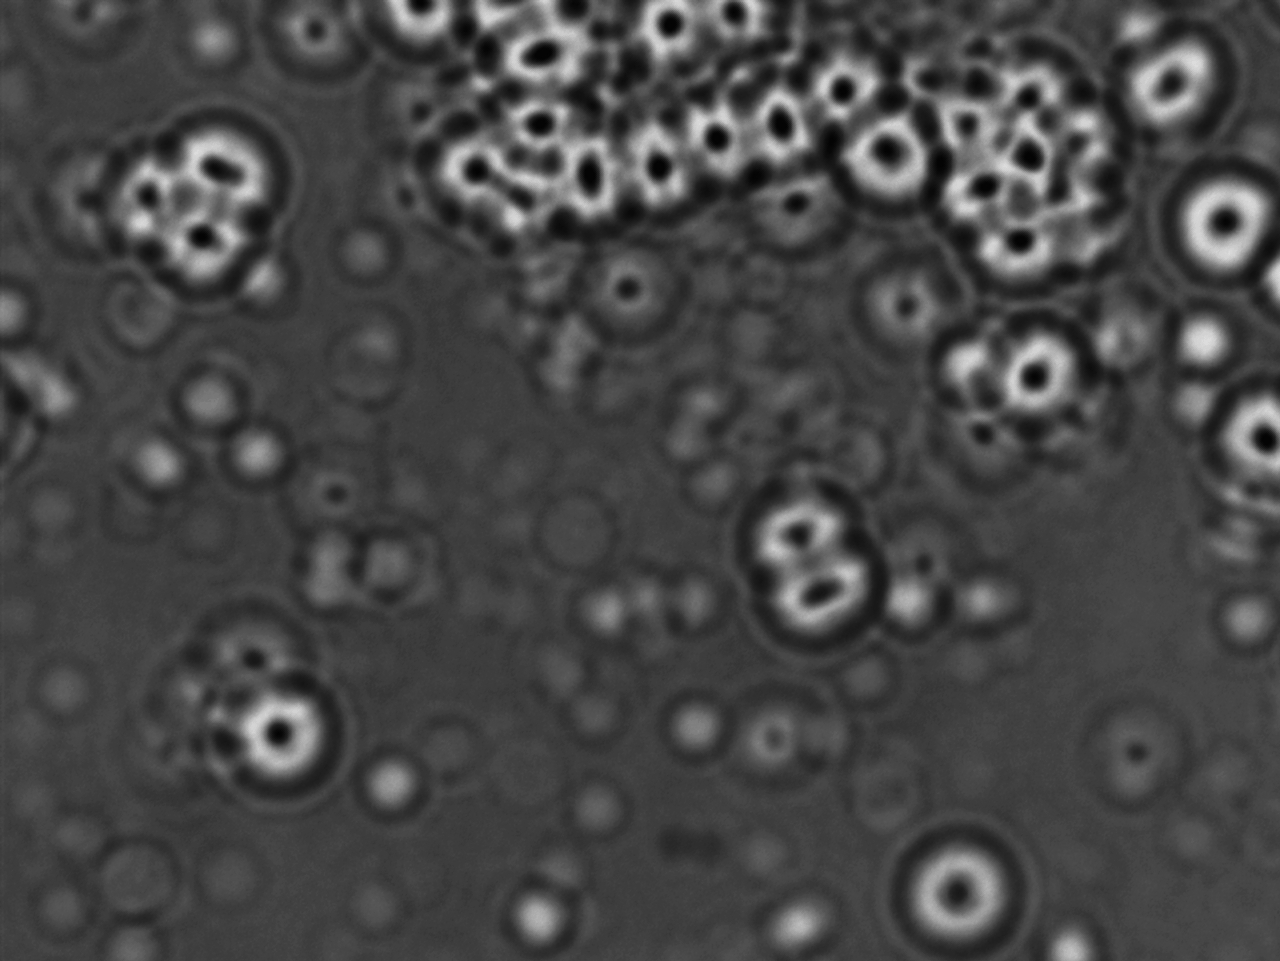depth:24: (889, 818, 1049, 961), (215, 676, 348, 802), (1161, 158, 1280, 285)
